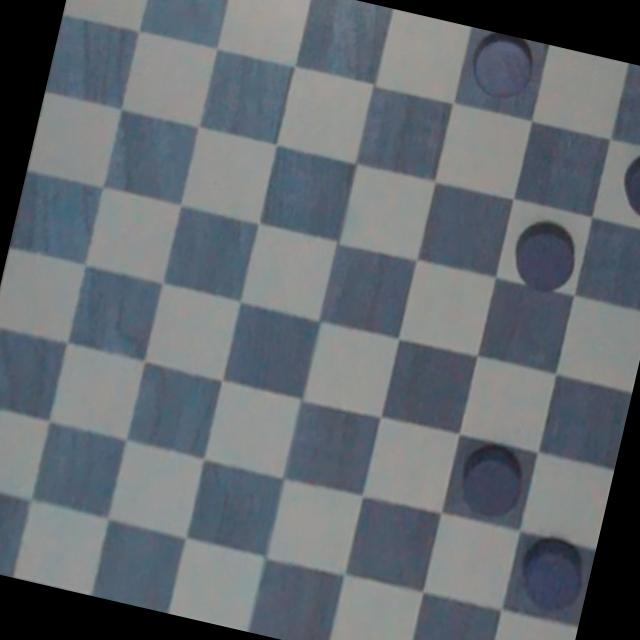BOARD: (0, 0, 640, 640)
black: (510, 526, 598, 630), (448, 440, 536, 528), (502, 212, 584, 300), (464, 28, 537, 105), (613, 139, 640, 225)
